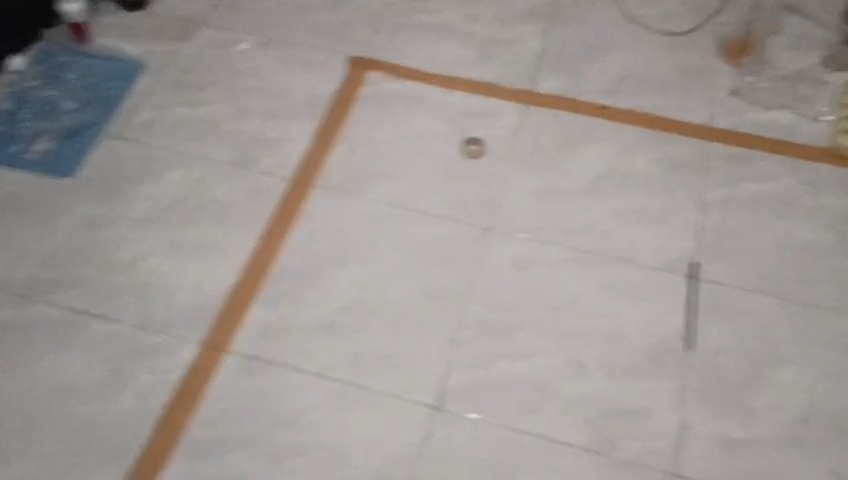floor marking: (126, 57, 847, 479)
